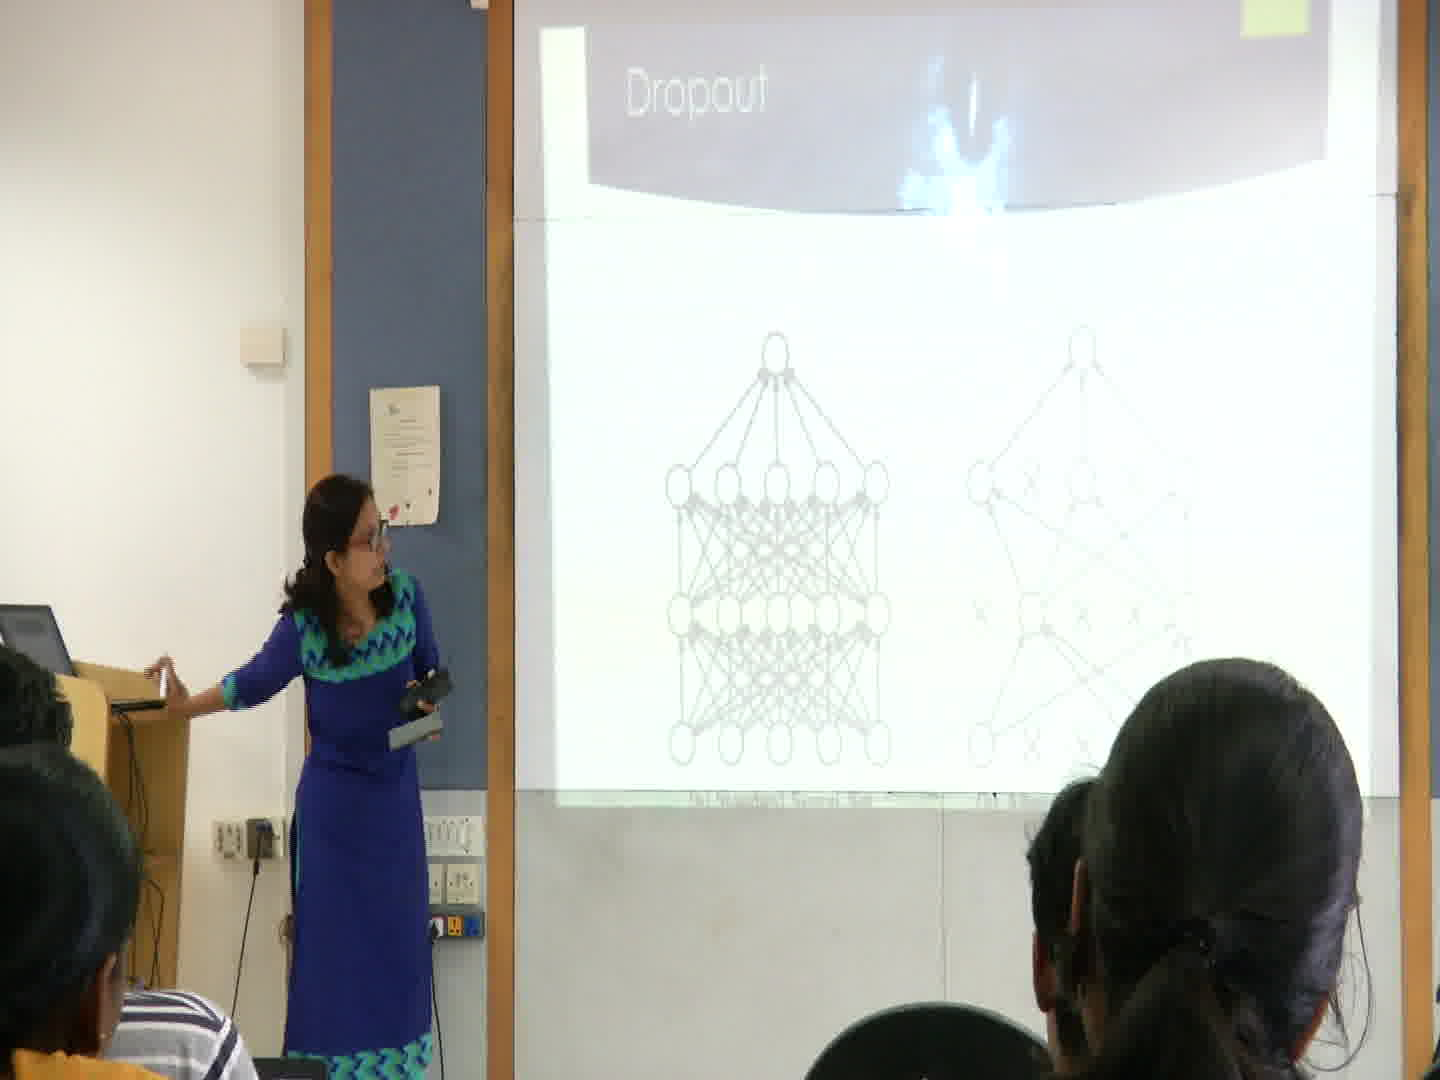slide: (542, 1, 1375, 816)
